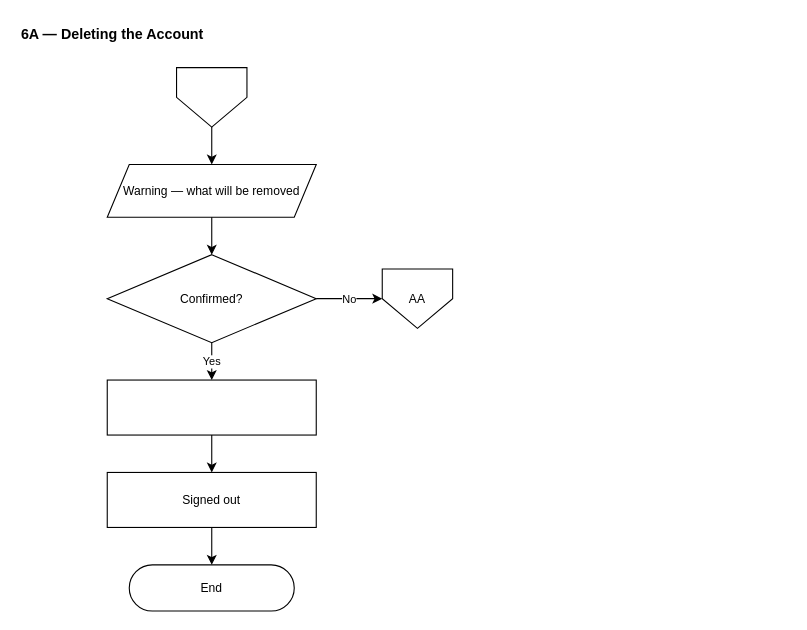
The diagram is 807 pixels wide and 630 high, and some of its shapes have lost their labels. The box of each missing label's shape, as (x1, y1, x2, y2) in pixels:
6A: (175, 67, 247, 127)
Account and personal data removed: (106, 379, 316, 435)
